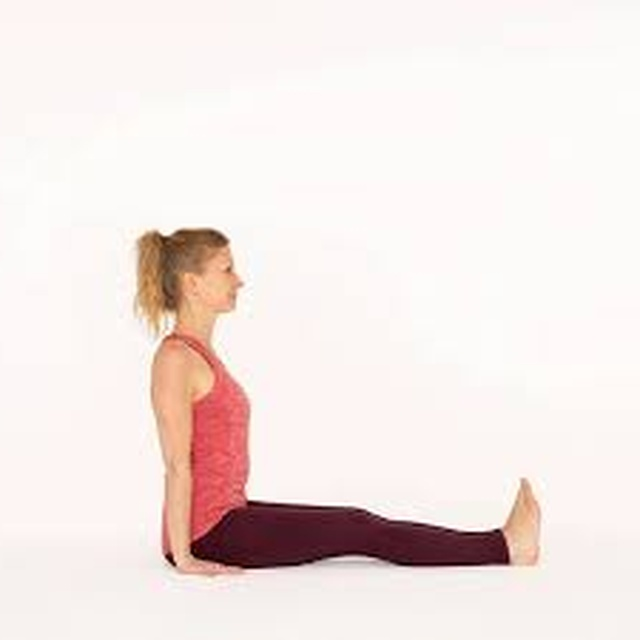Staff_Pose: (133, 226, 542, 579)
